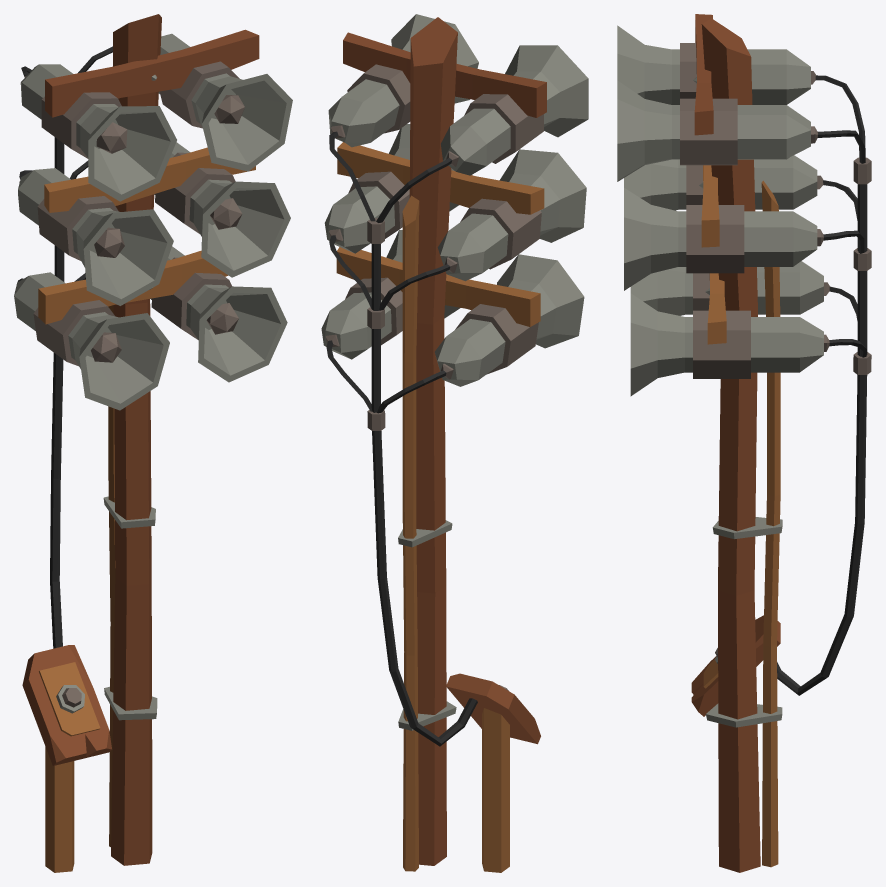
Rendered from speaker.fbx.
The picture shows the model from 3 angles, left to right: view 1: azimuth 30°, elevation 25°; view 2: azimuth 150°, elevation 25°; view 3: azimuth 270°, elevation 25°; orthographic projection. The views are drawn at different scales.
Parts seen in each view (by area): view 1: Speaker; view 2: Speaker; view 3: Speaker.
Part boxes in pixels (bbox=[...]): Speaker: bbox=[14, 14, 292, 872]; Speaker: bbox=[321, 14, 588, 872]; Speaker: bbox=[617, 14, 871, 872].
Bounding box in the file's own units: 127 × 488 × 133.
